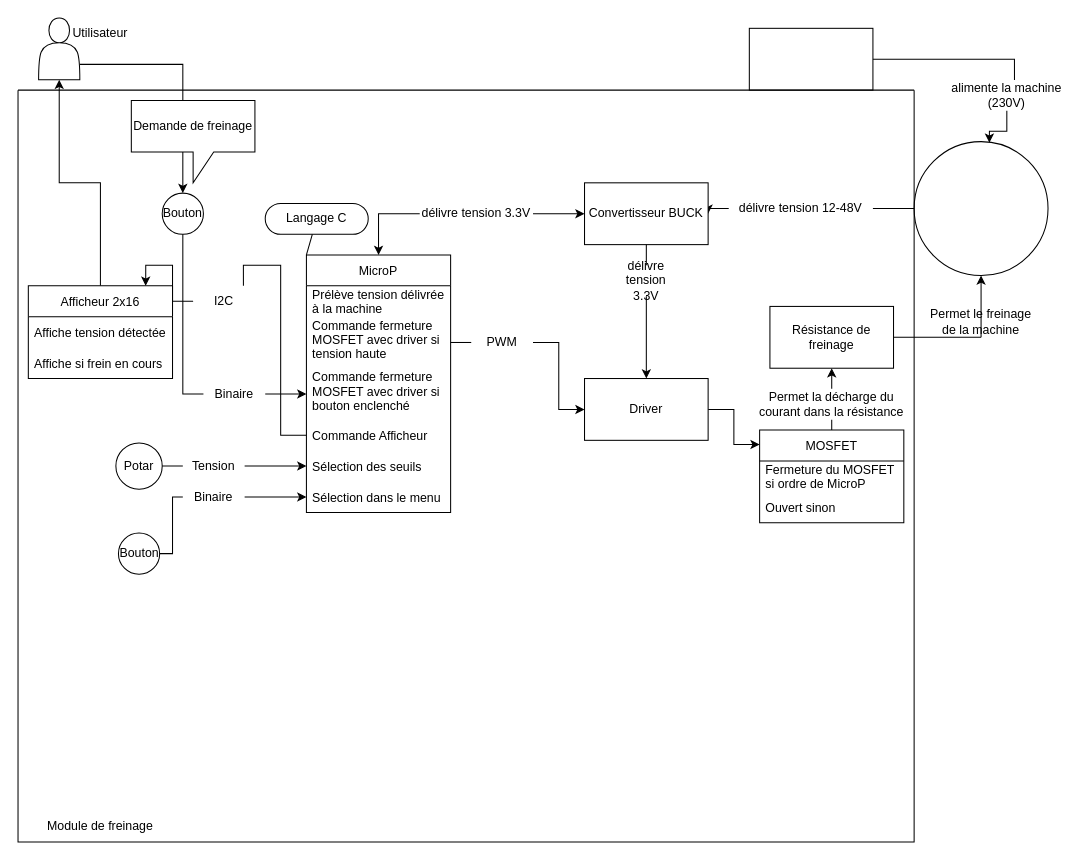
Image size: 1087x860. Some labels were removed from this diagram. The centre of each missing label's shape, as x and y in pixels:
"Alimentation secteur" goes at [810,58].
"Machine non réversible" goes at [980,208].
